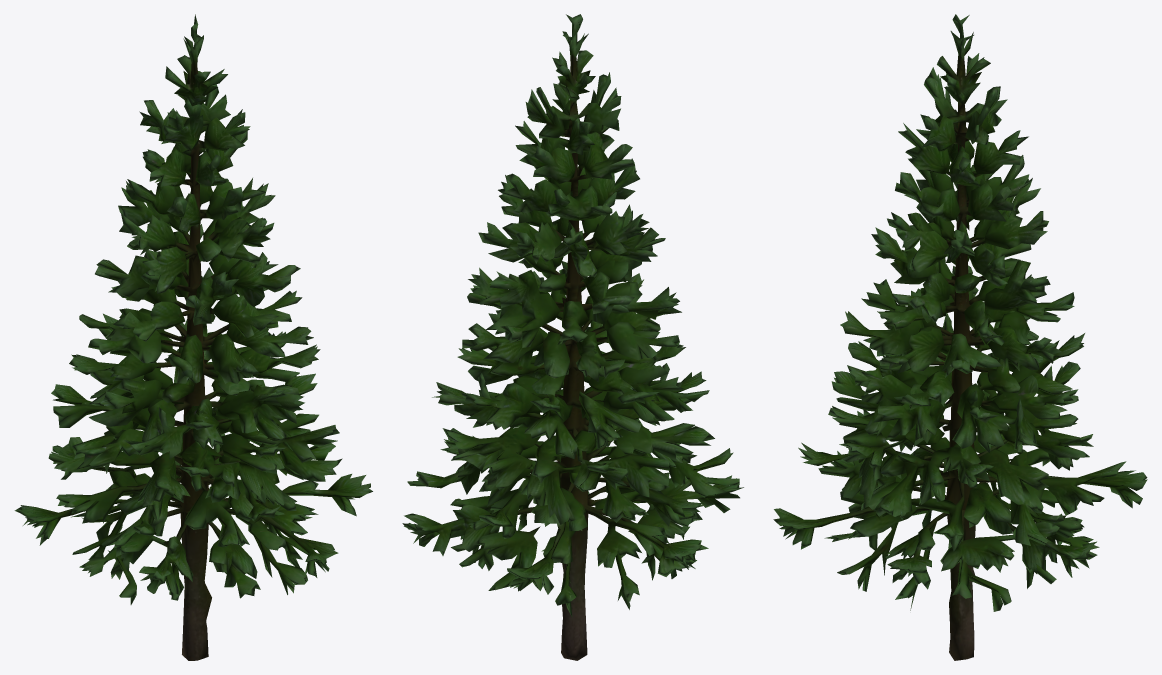
Rendered from tree_spruce.glb.
3 views of the same model, side by side, from view 1: azimuth 30°, elevation 25°; view 2: azimuth 150°, elevation 25°; view 3: azimuth 270°, elevation 25° (orthographic).
Bounding box in the file's own units: 0.4939 × 1 × 0.5273.
Materials: 1 (1 with a texture image).
